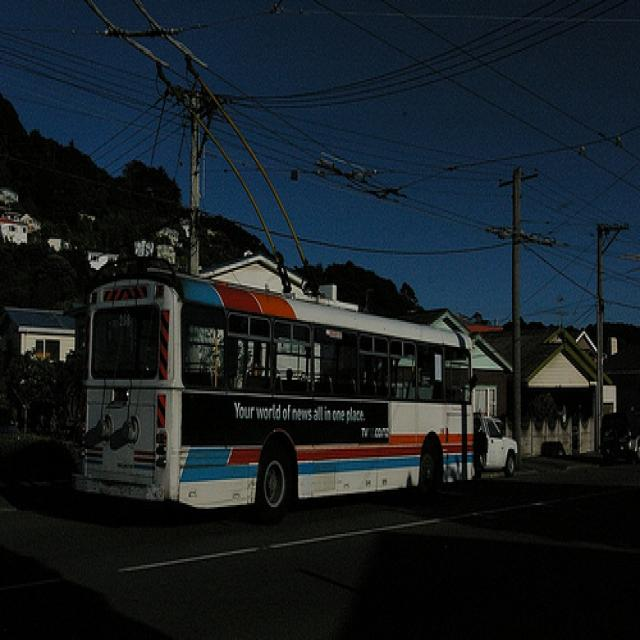Bus: (71, 253, 483, 531)
car: (472, 408, 521, 482)
